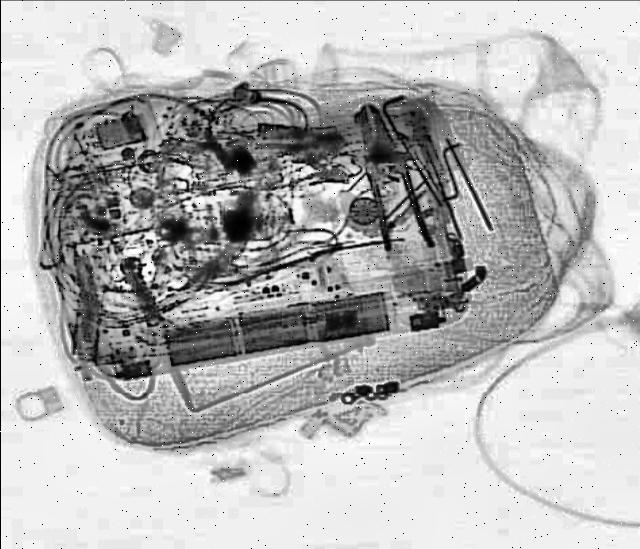Pliers: (338, 97, 434, 253)
